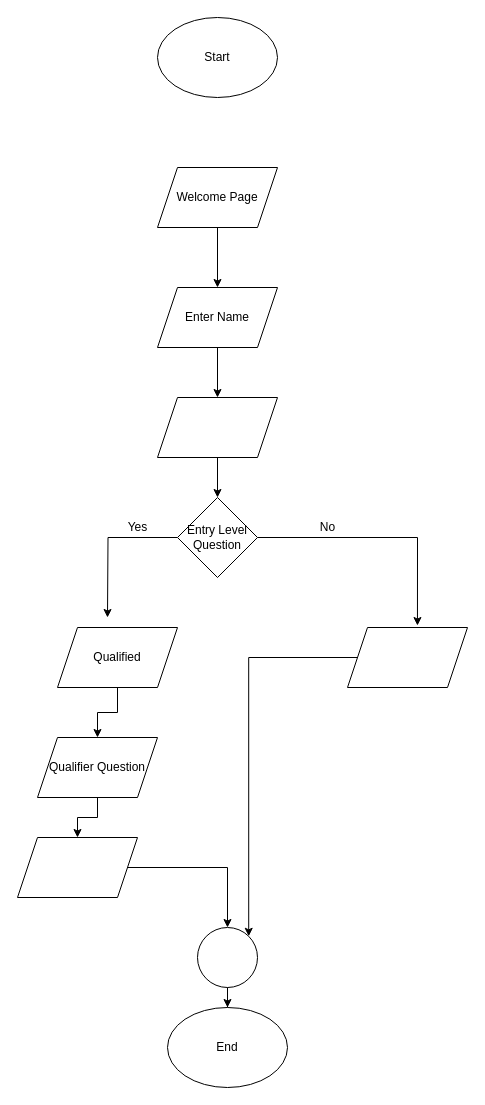
Image size: 485x1105. Some labels were removed from this diagram. The centre of each missing label's shape, as x and y in pixels:
"Disqualified" goes at pixel 407 657.
"Instruction Page" goes at pixel 217 427.
"Rewards" goes at pixel 77 867.
